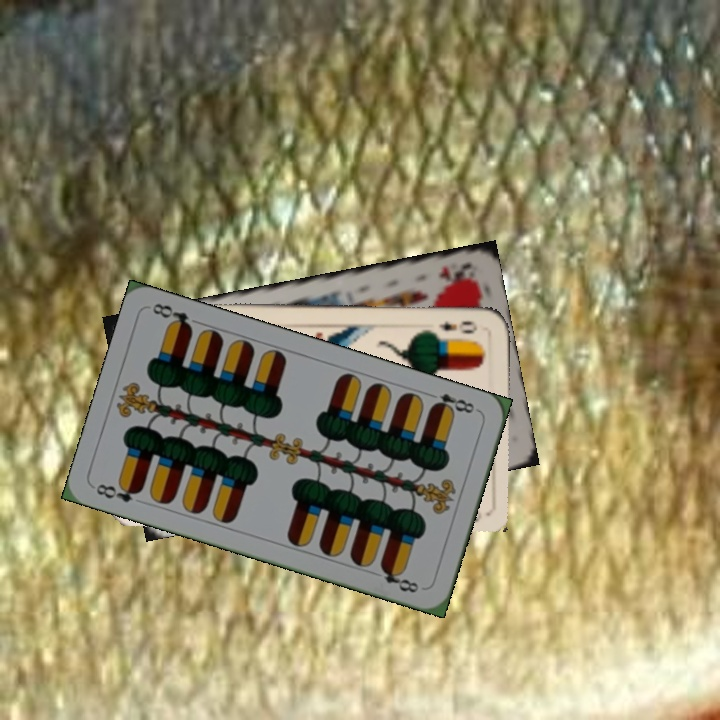E8: (424, 388, 481, 417), (91, 478, 145, 505)
EO: (435, 317, 480, 337)
HK: (435, 258, 474, 284)
